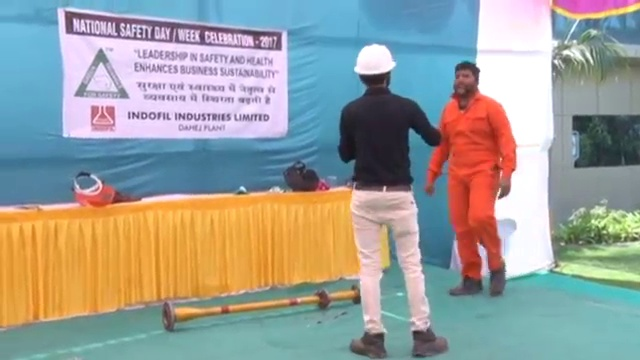helmet: (354, 42, 399, 77)
helmet_off: (453, 61, 479, 96)
helmet_on: (352, 41, 400, 91)
person: (339, 41, 447, 359), (425, 61, 516, 298)
